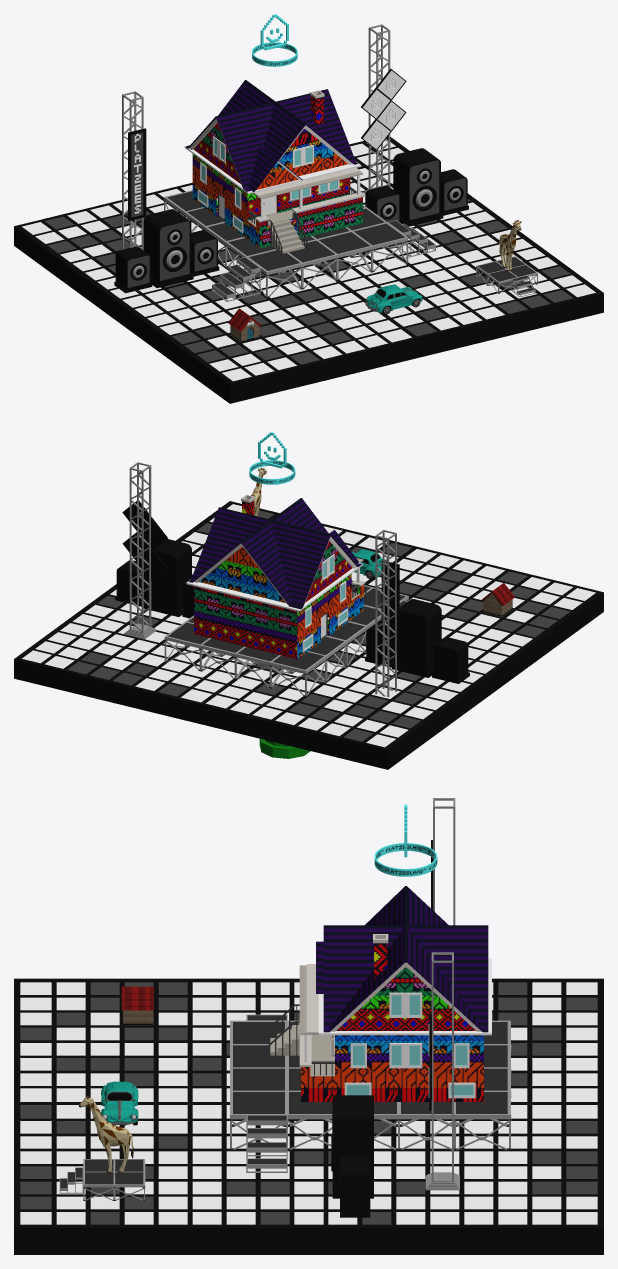
3 views of the same model, one above another, from view 1: azimuth 30°, elevation 25°; view 2: azimuth 150°, elevation 25°; view 3: azimuth 270°, elevation 25° (orthographic). The views are drawn at different scales.
Parts seen in each view (by area): view 1: Cube.008, Cube.966, VEHICLES_VOLKSWAGEN, TYPE_PREMIUM, OBJRANDOM_DOGHOUSE, ANIMAL_JIRAFA; view 2: Cube.008, Cube.966, TYPE_PREMIUM, OBJRANDOM_DOGHOUSE, UNDERGROUND_PIPES, VEHICLES_VOLKSWAGEN; view 3: Cube.008, Cube.966, VEHICLES_VOLKSWAGEN, ANIMAL_JIRAFA, TYPE_PREMIUM, OBJRANDOM_DOGHOUSE.
Part boxes in pixels (x1,y1,x2,y2): Cube.008: (14,24,603,403); Cube.966: (184,80,365,254); VEHICLES_VOLKSWAGEN: (365,284,422,314); TYPE_PREMIUM: (252,14,297,66); OBJRANDOM_DOGHOUSE: (228,308,261,342); ANIMAL_JIRAFA: (499,220,521,270); Cube.008: (14,462,603,769); Cube.966: (186,494,366,658); TYPE_PREMIUM: (249,432,295,484); OBJRANDOM_DOGHOUSE: (481,583,514,616); UNDERGROUND_PIPES: (259,738,310,758); VEHICLES_VOLKSWAGEN: (352,549,382,579); Cube.008: (14,798,603,1254); Cube.966: (268,886,491,1101); VEHICLES_VOLKSWAGEN: (101,1081,138,1125); ANIMAL_JIRAFA: (79,1095,133,1173); TYPE_PREMIUM: (374,804,437,876); OBJRANDOM_DOGHOUSE: (121,986,154,1024).
Bounding box in the file's own units: 4000 × 3095 × 4000.
Materials: 49 (6 with a texture image).
